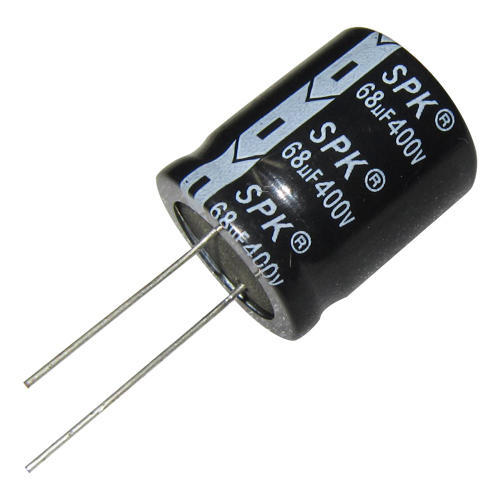capacitor: (113, 6, 486, 406)
